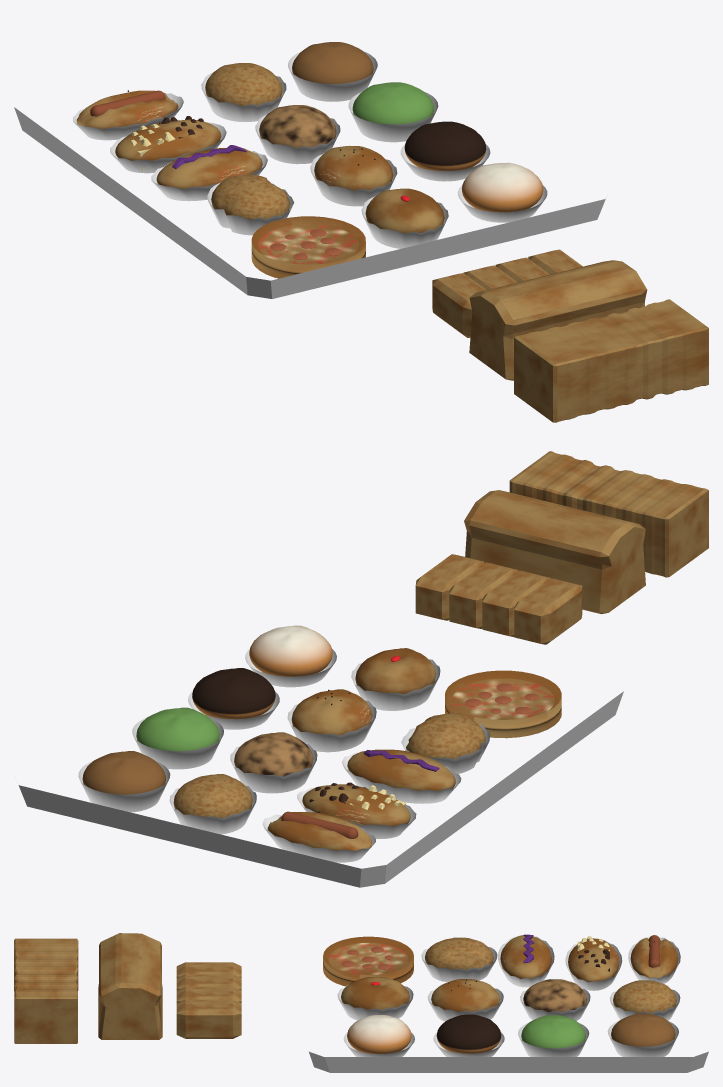
Rendered from kue.glb.
3 views of the same model, one above another, from view 1: azimuth 30°, elevation 25°; view 2: azimuth 150°, elevation 25°; view 3: azimuth 270°, elevation 25° (orthographic). The views are drawn at different scales.
Parts seen in each view (by area): view 1: Cube.003, Cube.002, Cube.004, Cylinder, Cube.005, Roti O.003, Roti O, Cube.001, Roti O.002, Roti O.001, Sphere, Roti O.005 (+5 smaller); view 2: Cube.004, Cube.003, Cube.002, Cube.005, Cylinder, Cube, Roti O.003, Roti O.001, Roti O, Sphere, Roti O.005, Roti O.002 (+5 smaller); view 3: Cube.003, Cube.004, Cube.002, Cube.005, Cylinder, Roti O.007, Sphere, Roti O, Roti O.002, Roti O.001, Roti O.003, Roti O.005 (+5 smaller).
Part boxes in pixels (left/top/right/bottom): Cube.003: left=514, top=299, right=708, bottom=422; Cube.002: left=14, top=107, right=605, bottom=298; Cube.004: left=469, top=260, right=647, bottom=380; Cylinder: left=251, top=216, right=365, bottom=278; Cube.005: left=432, top=249, right=582, bottom=337; Roti O.003: left=457, top=162, right=547, bottom=222; Roti O: left=288, top=42, right=377, bottom=101; Cube.001: left=110, top=116, right=226, bottom=173; Roti O.002: left=400, top=121, right=490, bottom=181; Roti O.001: left=348, top=82, right=438, bottom=142; Sphere: left=361, top=188, right=448, bottom=248; Roti O.005: left=310, top=145, right=397, bottom=206; Cube.004: left=464, top=490, right=645, bottom=614; Cube.003: left=509, top=451, right=708, bottom=577; Cube.002: left=18, top=691, right=623, bottom=887; Cube.005: left=415, top=554, right=582, bottom=644; Cylinder: left=445, top=670, right=561, bottom=738; Cube: left=342, top=749, right=461, bottom=803; Roti O.003: left=245, top=625, right=336, bottom=687; Roti O.001: left=132, top=707, right=223, bottom=769; Roti O: left=78, top=751, right=170, bottom=812; Sphere: left=351, top=648, right=440, bottom=710; Roti O.005: left=287, top=689, right=376, bottom=752; Roti O.002: left=188, top=668, right=279, bottom=729; Cube.003: left=14, top=938, right=78, bottom=1043; Cube.004: left=98, top=933, right=162, bottom=1039; Cube.002: left=309, top=1051, right=708, bottom=1072; Cube.005: left=176, top=962, right=241, bottom=1038; Cylinder: left=323, top=936, right=413, bottom=986; Roti O.007: left=421, top=937, right=497, bottom=981; Sphere: left=337, top=977, right=413, bottom=1020; Roti O: left=607, top=1013, right=678, bottom=1056; Roti O.002: left=433, top=1014, right=504, bottom=1056; Roti O.001: left=518, top=1015, right=589, bottom=1056; Roti O.003: left=343, top=1015, right=414, bottom=1056; Roti O.005: left=427, top=979, right=503, bottom=1021.
Bounding box in the file's own units: 0.514 × 0.0963 × 1.07.
50 materials, 15 textured.
